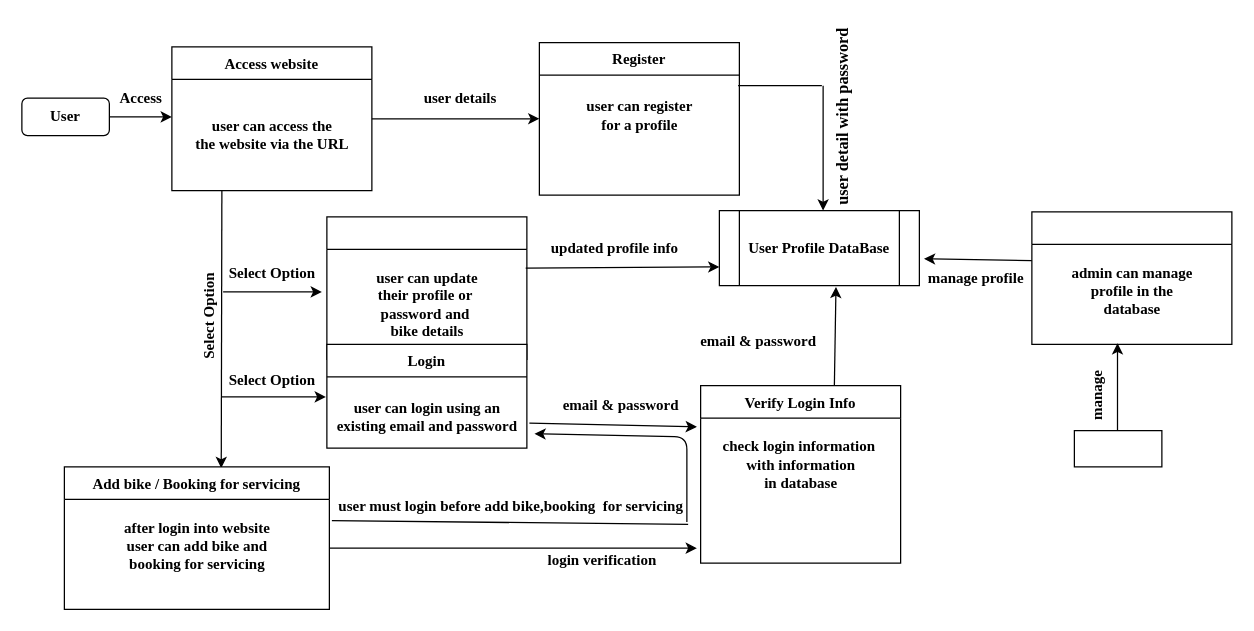
The diagram is 1254 pixels wide and 631 high, and some of its shapes have lost their labels. Here are the shapes that lost their labels. From the top down, the box of each, then its label:
(326, 216, 527, 359): Update User Profile
(1031, 211, 1232, 344): Modify Profile Database
(1073, 429, 1162, 467): Admin
